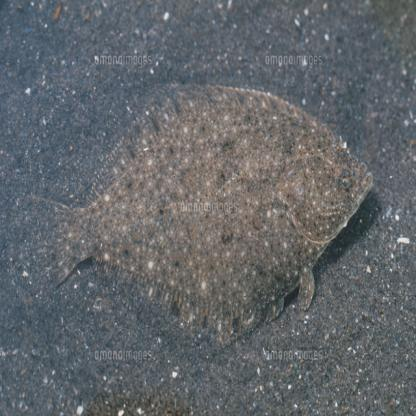flounder: (23, 76, 386, 350)
